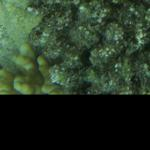dead: (1, 1, 147, 94)
